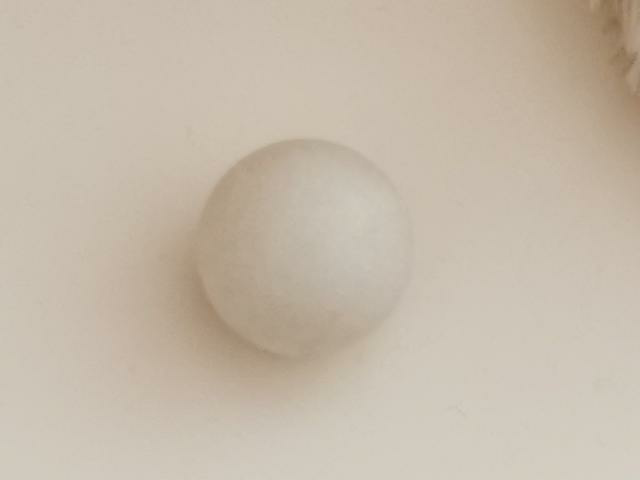ball: (194, 138, 420, 355)
